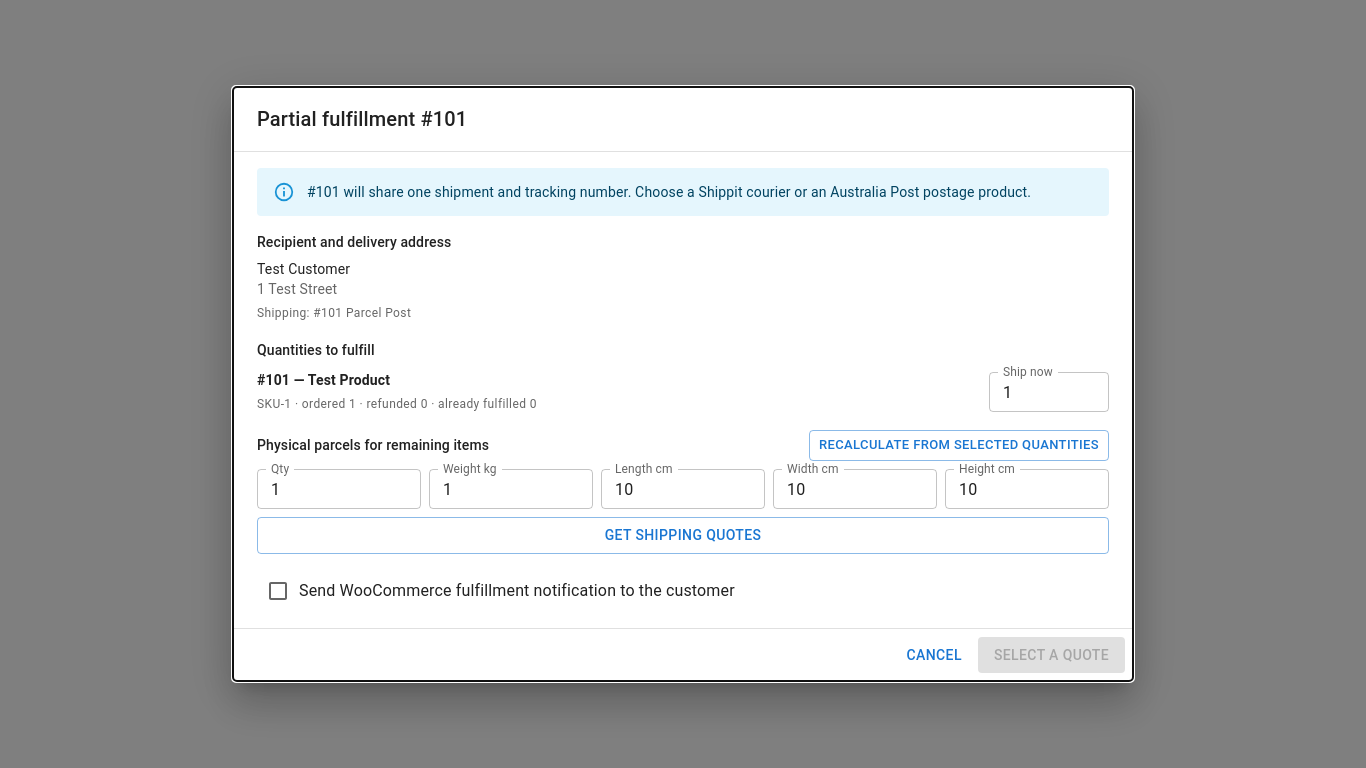
Test: FulfillmentShipmentDialog › shows the shipping difference and keeps shipment submit disabled while extra shipping is unpaid
Expected: the text "#101 — Test Product" is shown, [257,372,390,388]
Click the button "Get shipping quotes" at (683,535), box [257,517,1109,554]
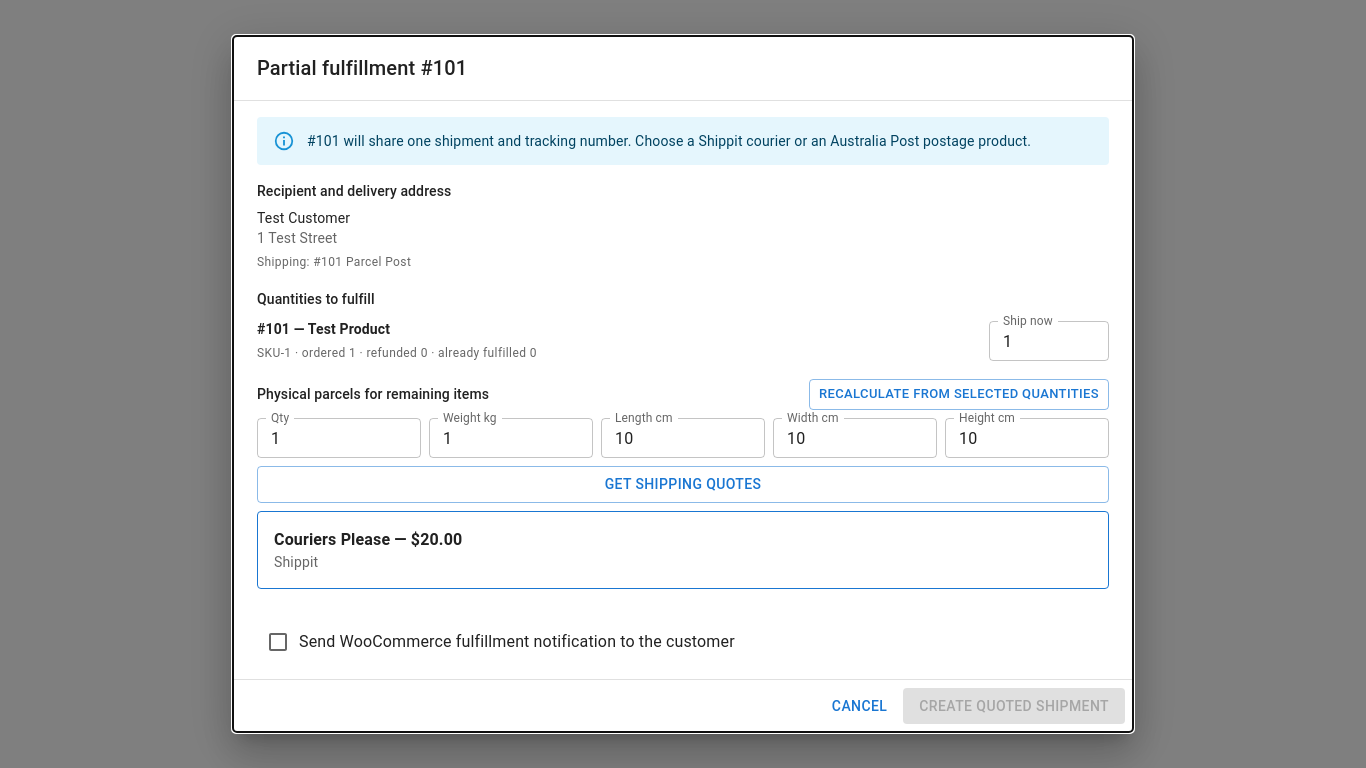
Click the text "Couriers Please — $20.00" at (368,539), box [274,530,462,549]
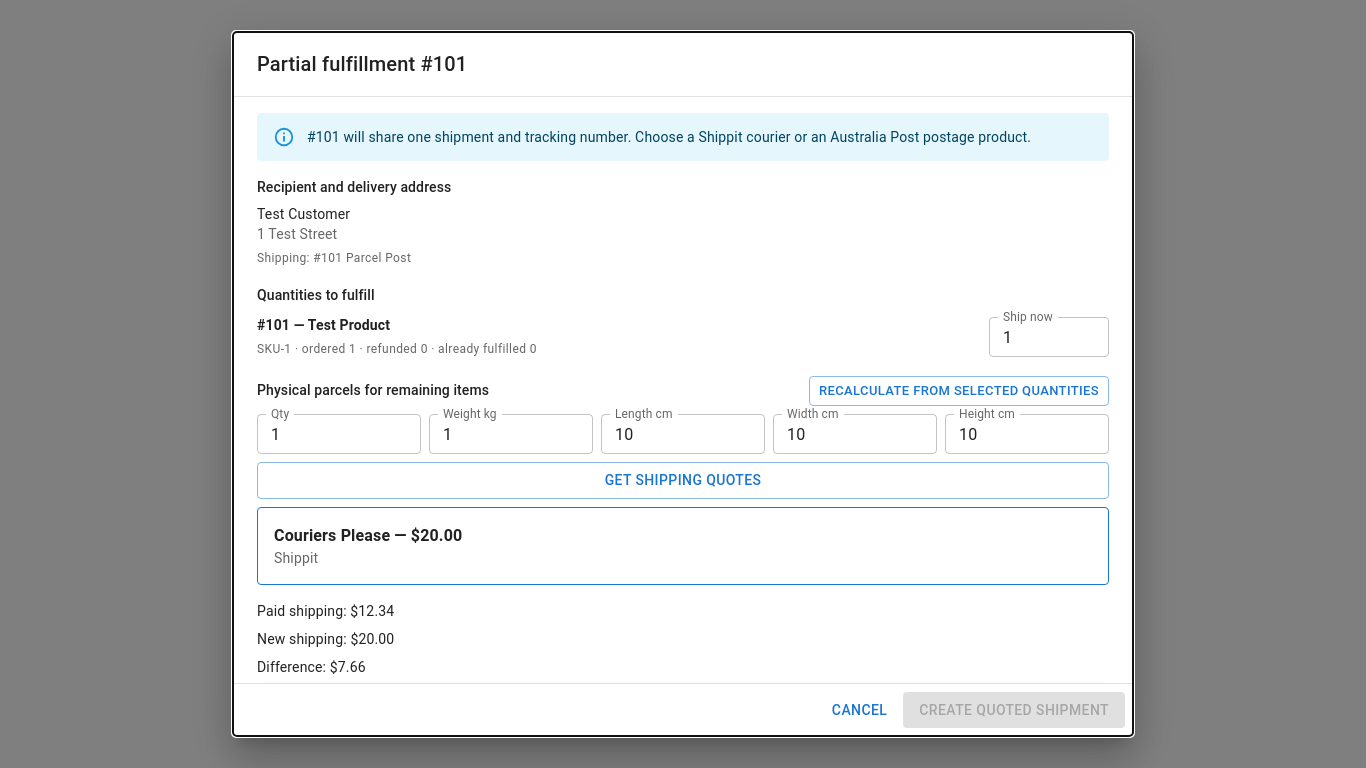
Now the text "Paid shipping: $12.34" is shown, box [257,603,394,619]
Now the text "New shipping: $20.00" is shown, box [257,631,394,647]
Now the text "Difference: $7.66" is shown, box [257,659,366,675]
